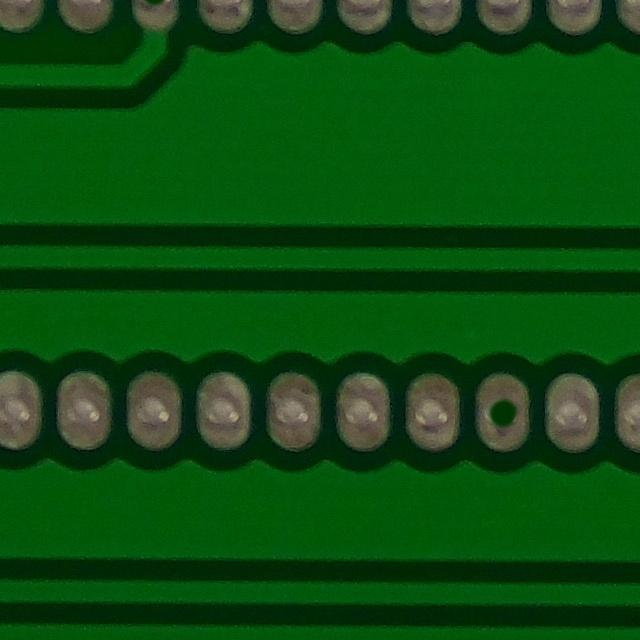missing_hole: (468, 366, 537, 468)
